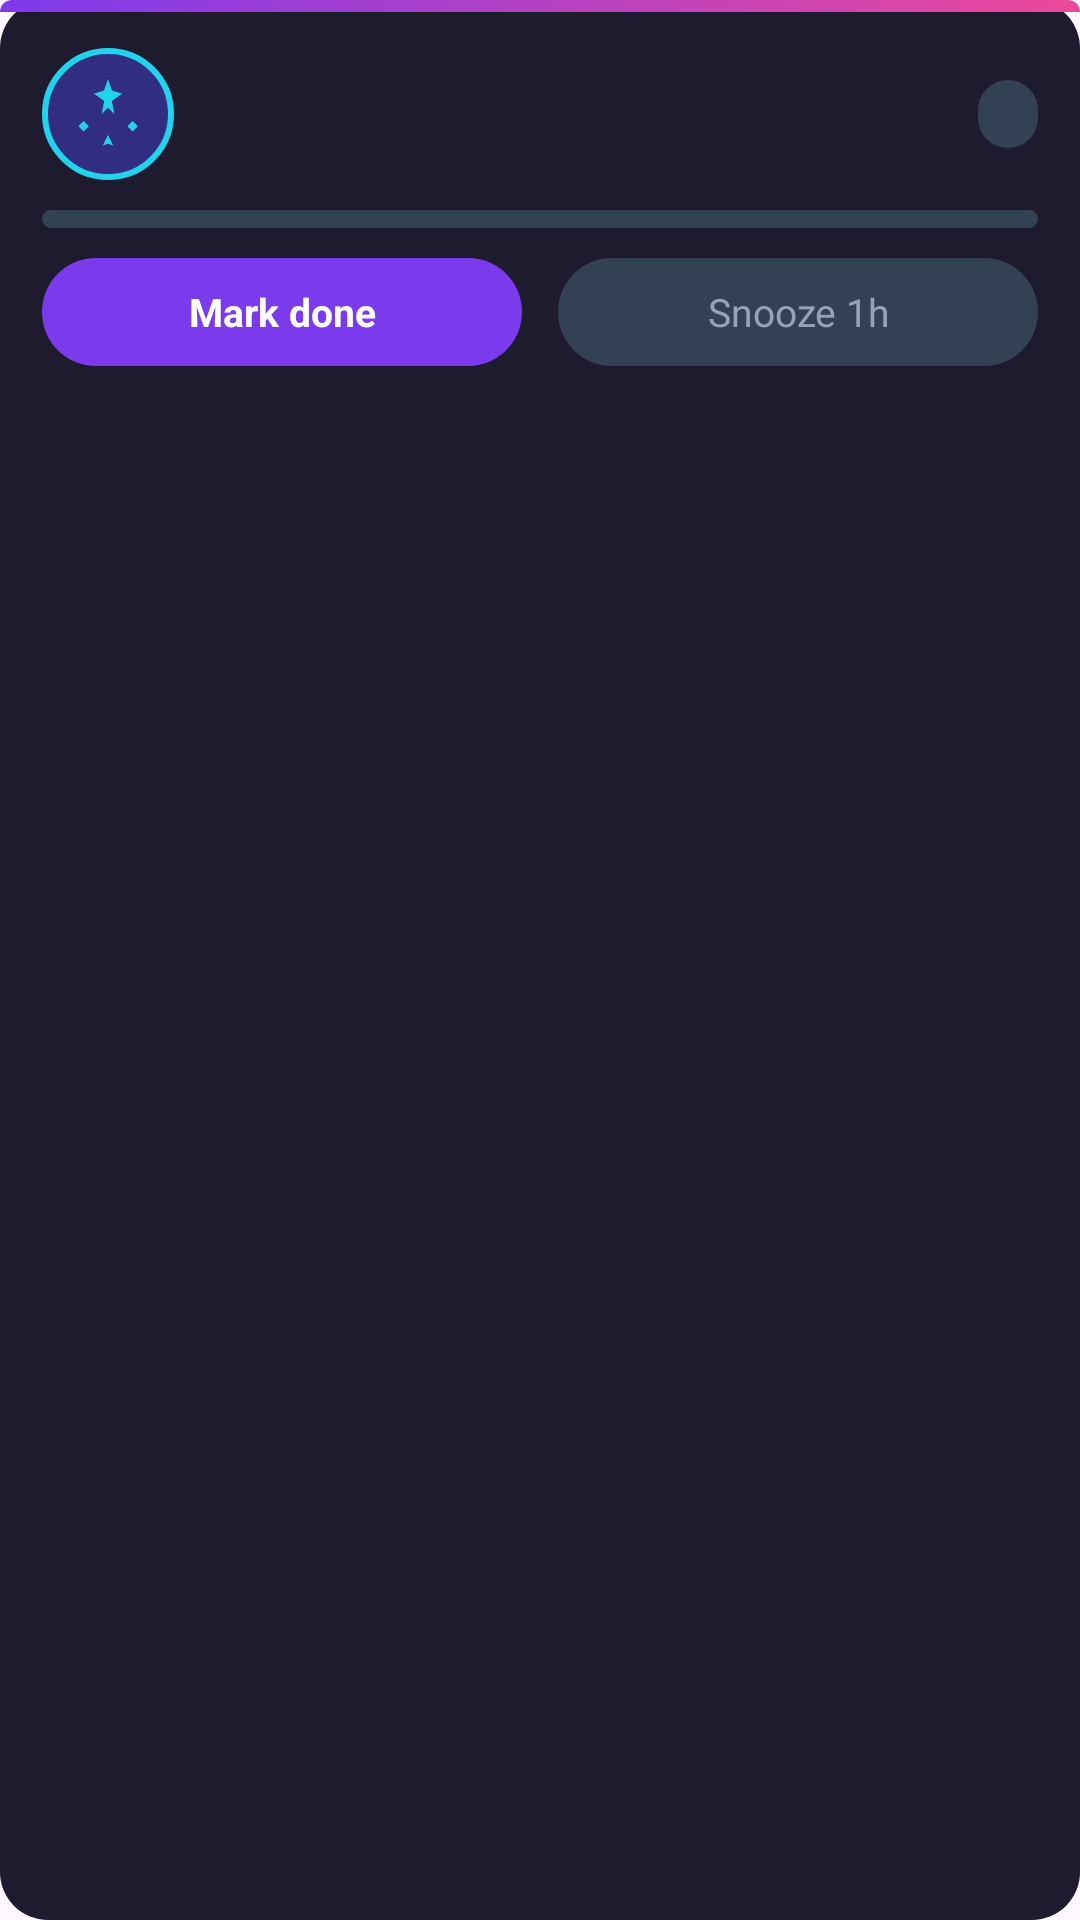

Screen size 1080×1920. Icon name, then its box in pixels as {"left": x1, "top": y1, "right": x2, "bottom": y2}:
Focus task icon: {"left": 78, "top": 79, "right": 138, "bottom": 146}
